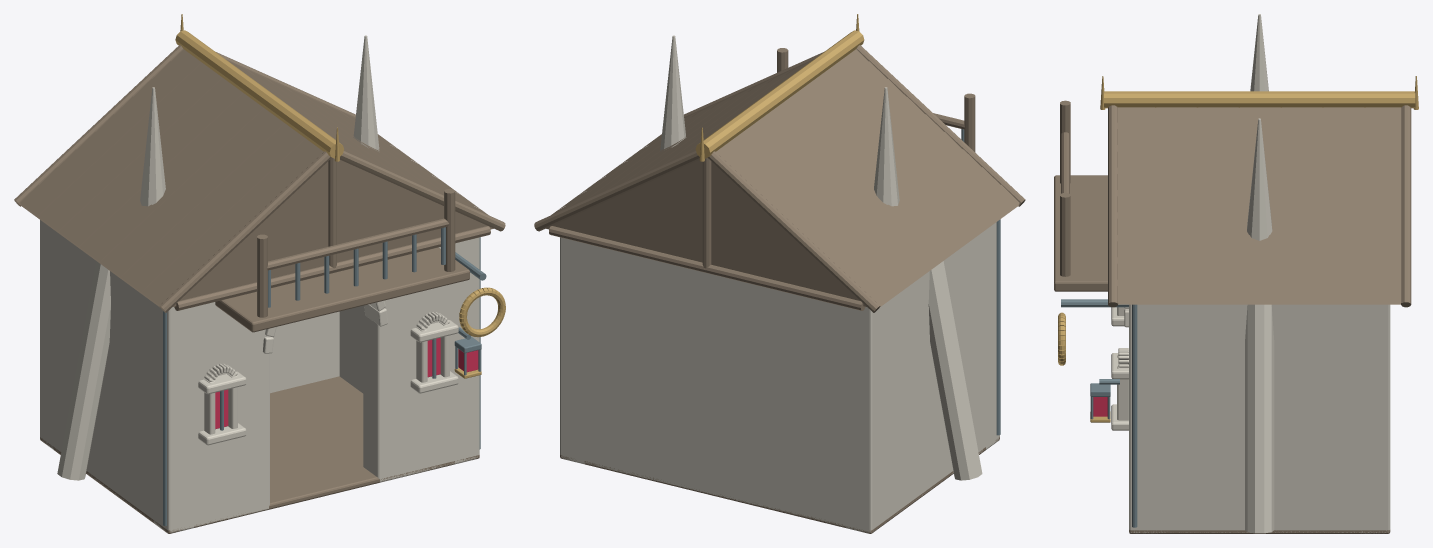
File: a6_service_5.glb
3 views of the same model, side by side, from view 1: azimuth 30°, elevation 25°; view 2: azimuth 150°, elevation 25°; view 3: azimuth 270°, elevation 25° (orthographic).
Visible parts, largest first — view 1: Roof.029, Front.029, Side.029, Body.065; view 2: Roof.029, Body.065, Side.029, Front.029; view 3: Roof.029, Side.029, Body.065, Front.029.
Part boxes in pixels (bbox=[...]): Roof.029: bbox=[14, 14, 505, 332]; Front.029: bbox=[153, 239, 505, 532]; Side.029: bbox=[40, 224, 480, 533]; Body.065: bbox=[40, 220, 479, 533]; Roof.029: bbox=[534, 14, 1025, 312]; Body.065: bbox=[560, 237, 999, 533]; Side.029: bbox=[561, 219, 1000, 533]; Front.029: bbox=[986, 222, 999, 449]; Roof.029: bbox=[1054, 14, 1418, 307]; Side.029: bbox=[1129, 304, 1388, 533]; Body.065: bbox=[1129, 304, 1390, 533]; Front.029: bbox=[1058, 299, 1158, 533].
Bounding box in the file's own units: 4.11 × 3.8 × 3.21.
